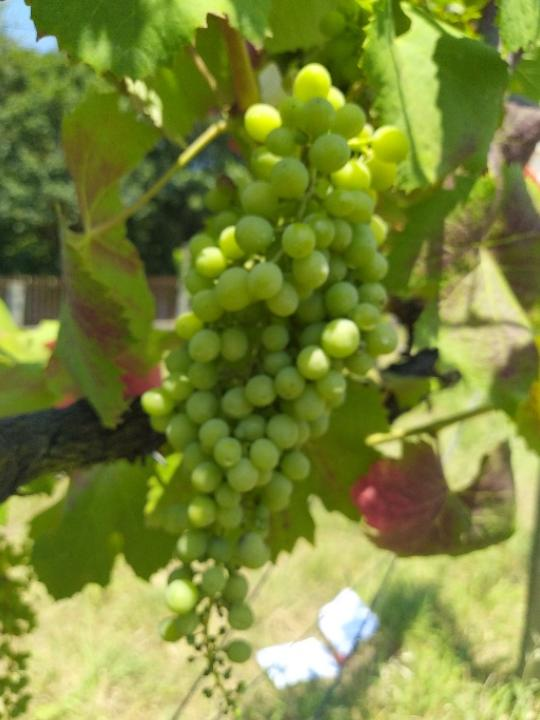grape: (135, 60, 407, 720)
